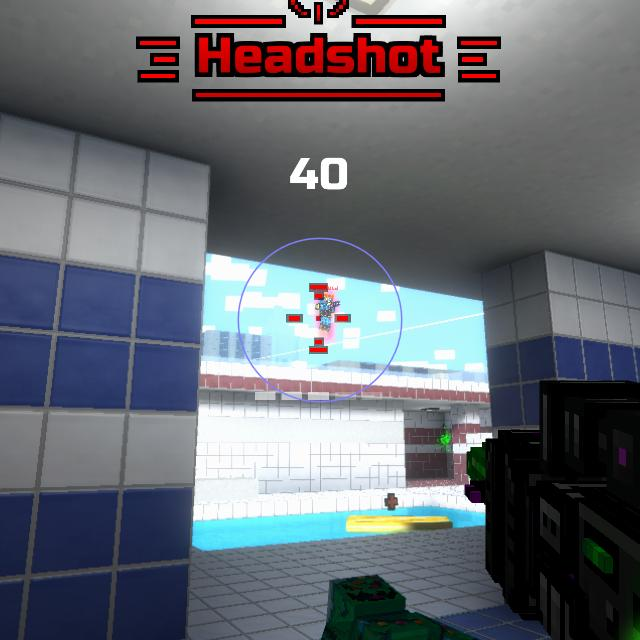Enemy: (314, 294, 336, 333)
